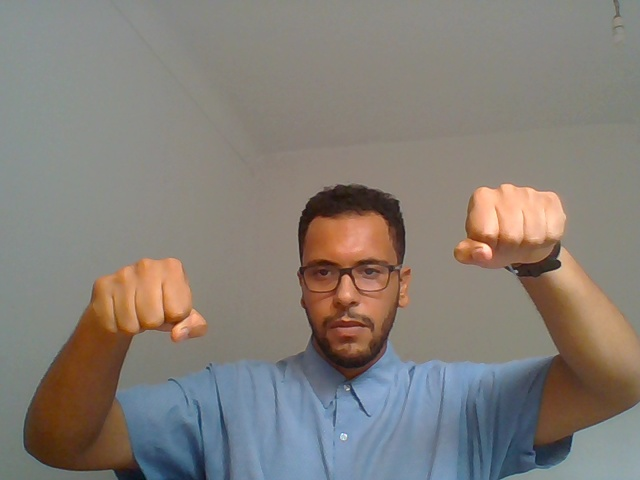yes: (49, 223, 216, 383), (439, 146, 581, 324)
